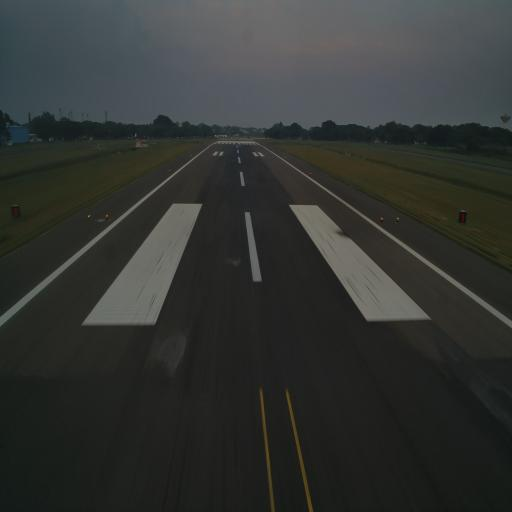on: (86, 210, 92, 220), (395, 214, 401, 223), (104, 212, 110, 220), (380, 214, 384, 224)
